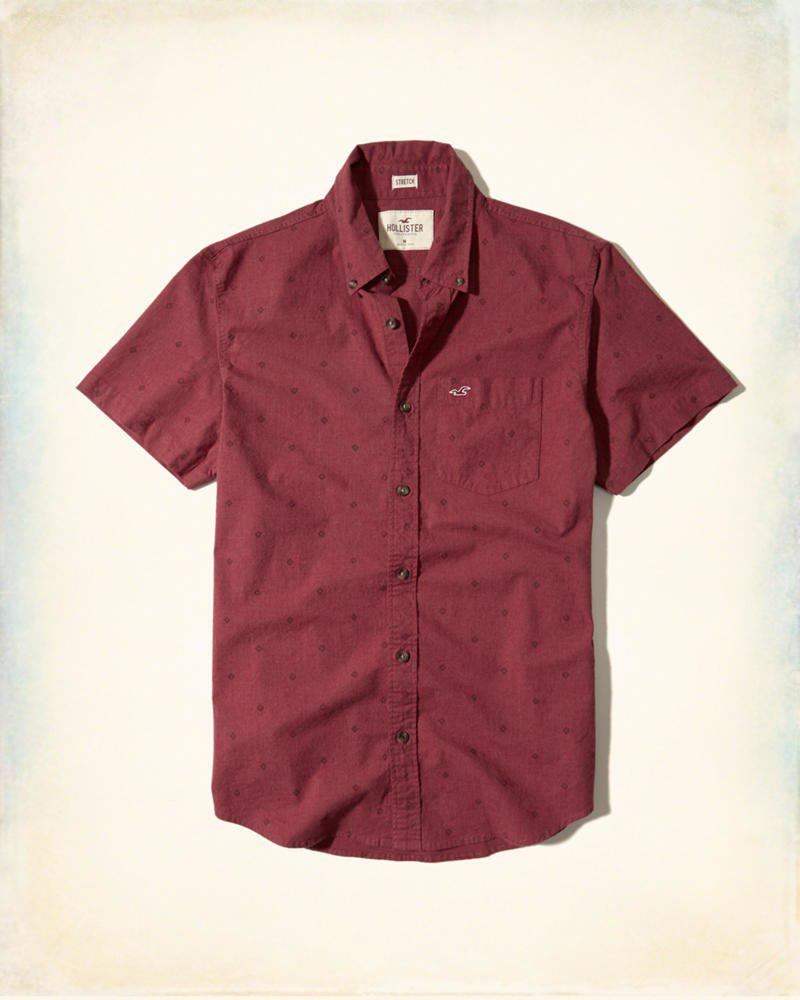teeshirt: (82, 137, 742, 884)
